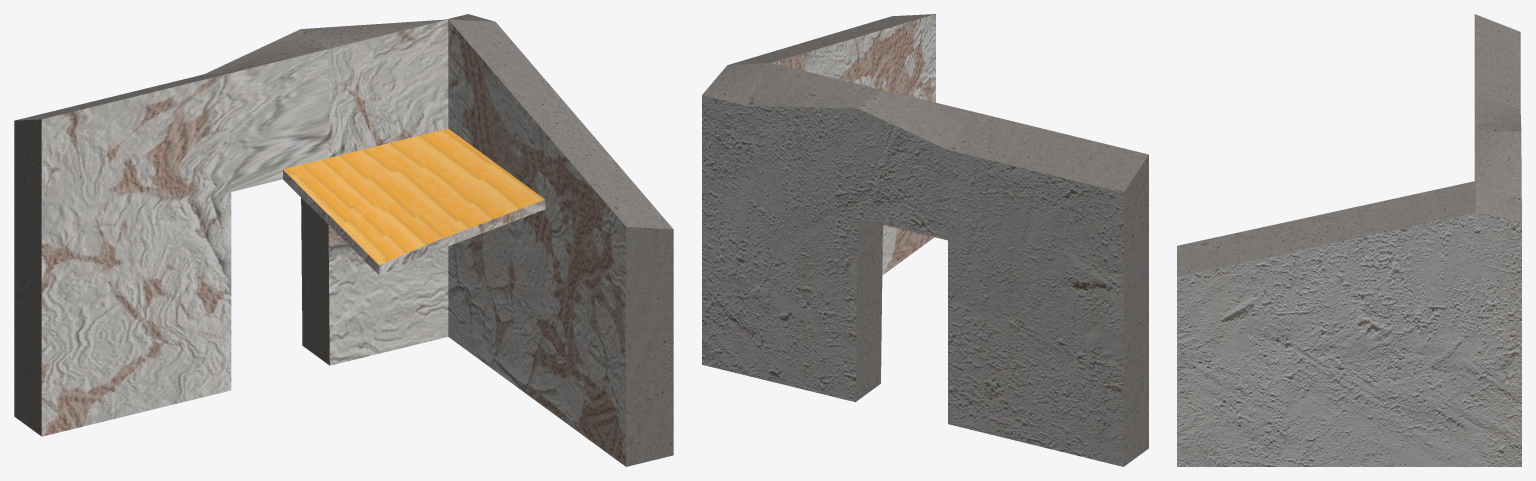
File: House4RuinsL.fbx
The picture shows the model from 3 angles, left to right: view 1: azimuth 30°, elevation 25°; view 2: azimuth 150°, elevation 25°; view 3: azimuth 270°, elevation 25°; orthographic projection. The views are drawn at different scales.
Parts seen in each view (by area): view 1: Object003, Object001, House4RuinsL; view 2: Object002, Object001, Object003; view 3: Object002, Object001.
Part boxes in pixels (x1,y1,x2,y2): Object003: [41, 19, 625, 466]; Object001: [14, 14, 673, 466]; House4RuinsL: [283, 128, 544, 265]; Object002: [702, 95, 1123, 466]; Object001: [702, 14, 1148, 466]; Object003: [772, 14, 935, 275]; Object002: [1177, 212, 1521, 466]; Object001: [1177, 14, 1521, 276].
Size of the model in its own units: 4.8 by 3.2 by 3.75.
